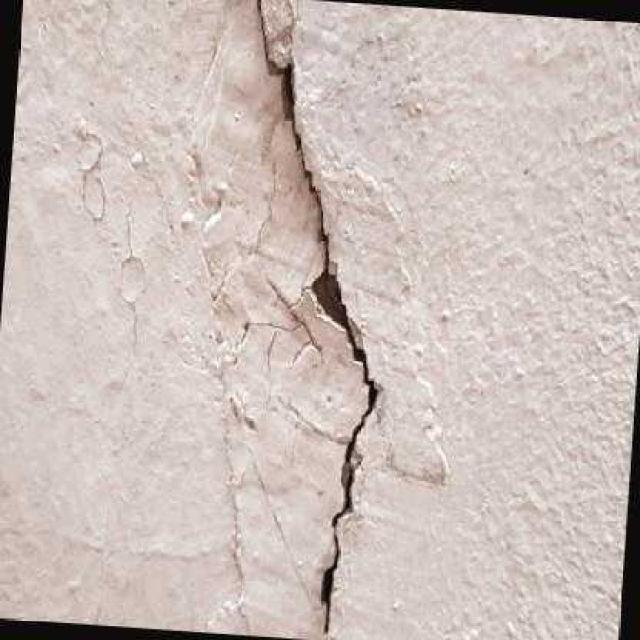D00: (255, 0, 377, 640)
